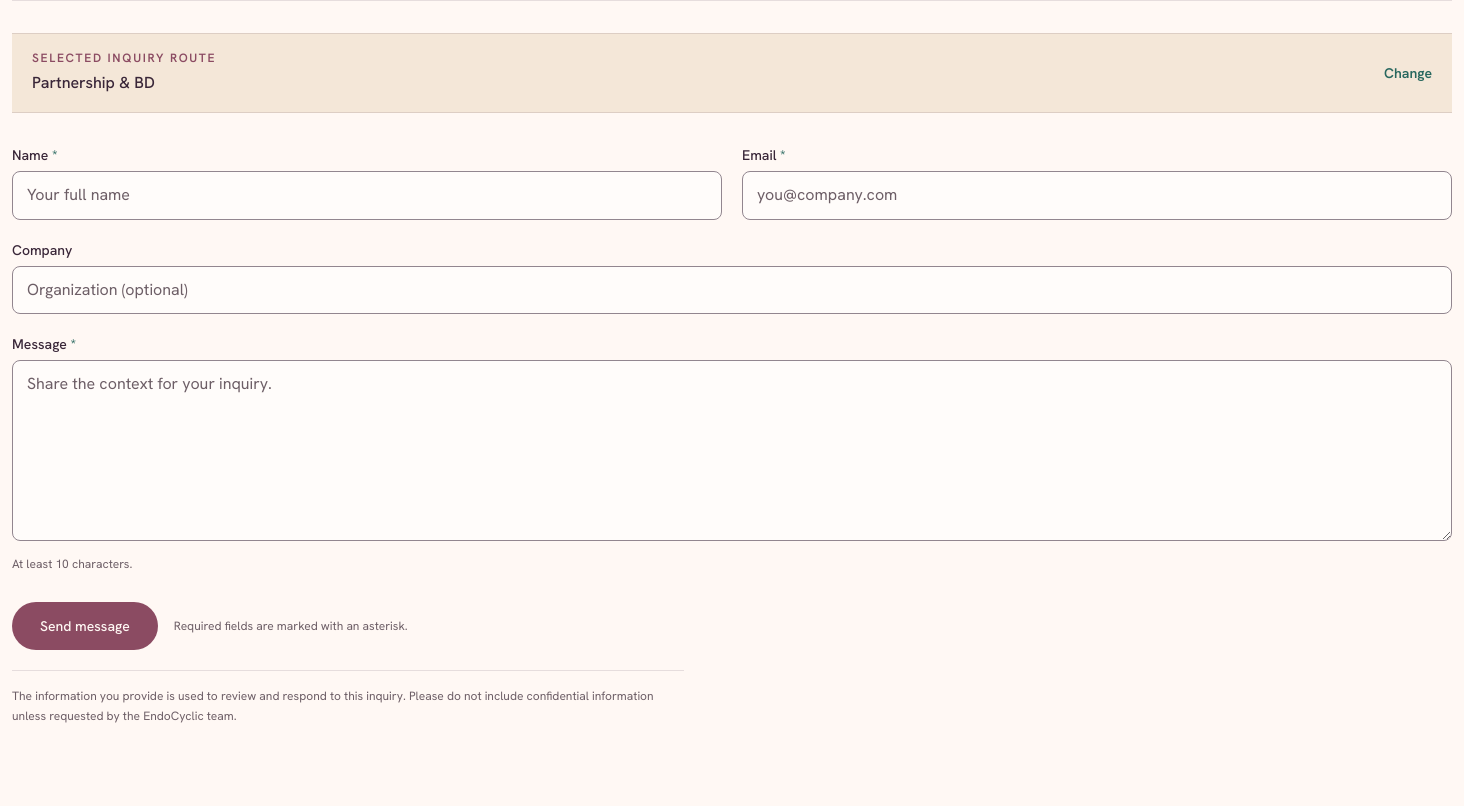
Scenario: ContactForm subject chooser › preserves editable fields while Retry-After gates only submission
Type "Ada Lovelace" into the field labelled "Name". click: (367, 196)
box: x1=12 y1=171 x2=722 y2=220
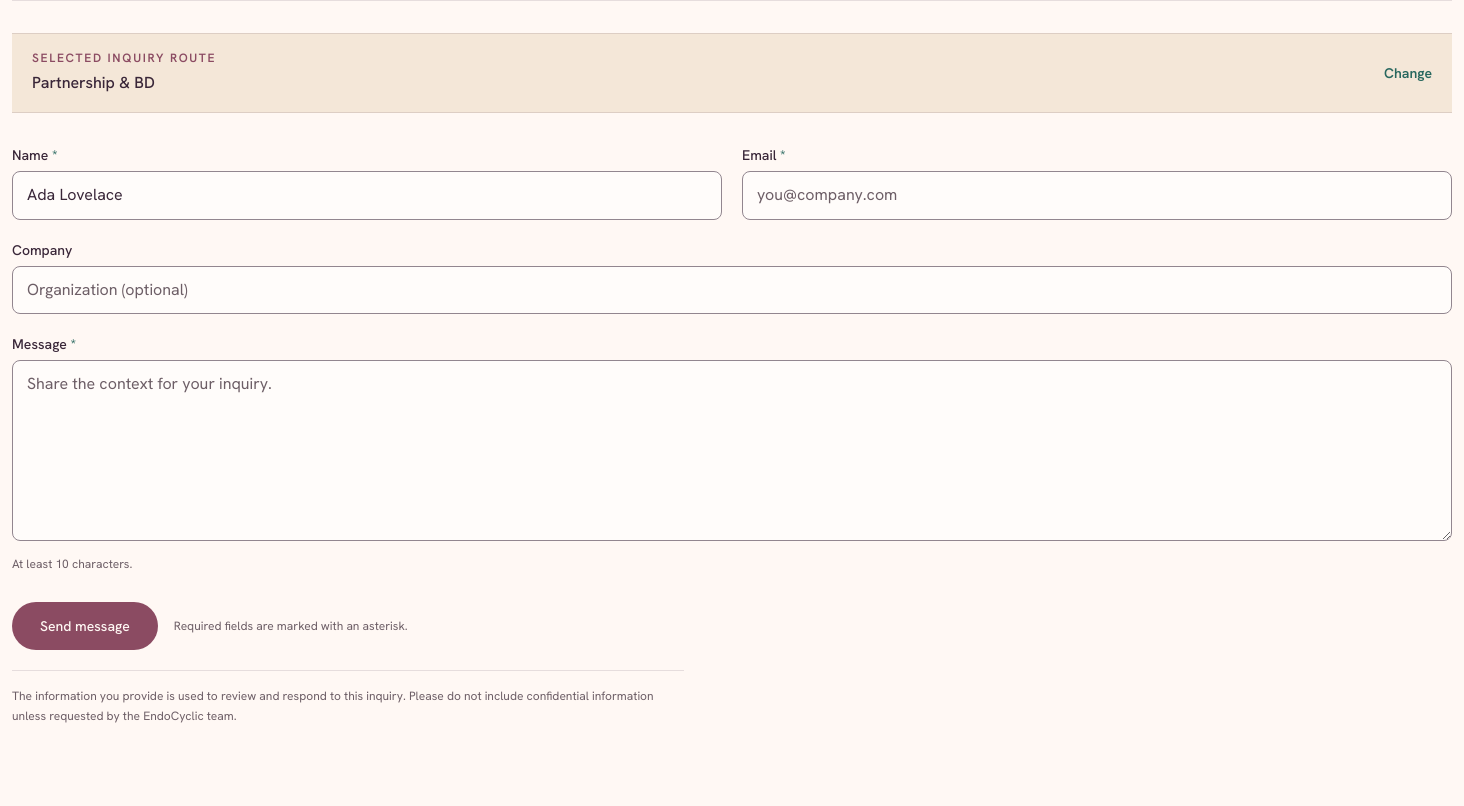
Type "ada@example.com" into the field labelled "Email". click: (1097, 196)
box: x1=742 y1=171 x2=1452 y2=220
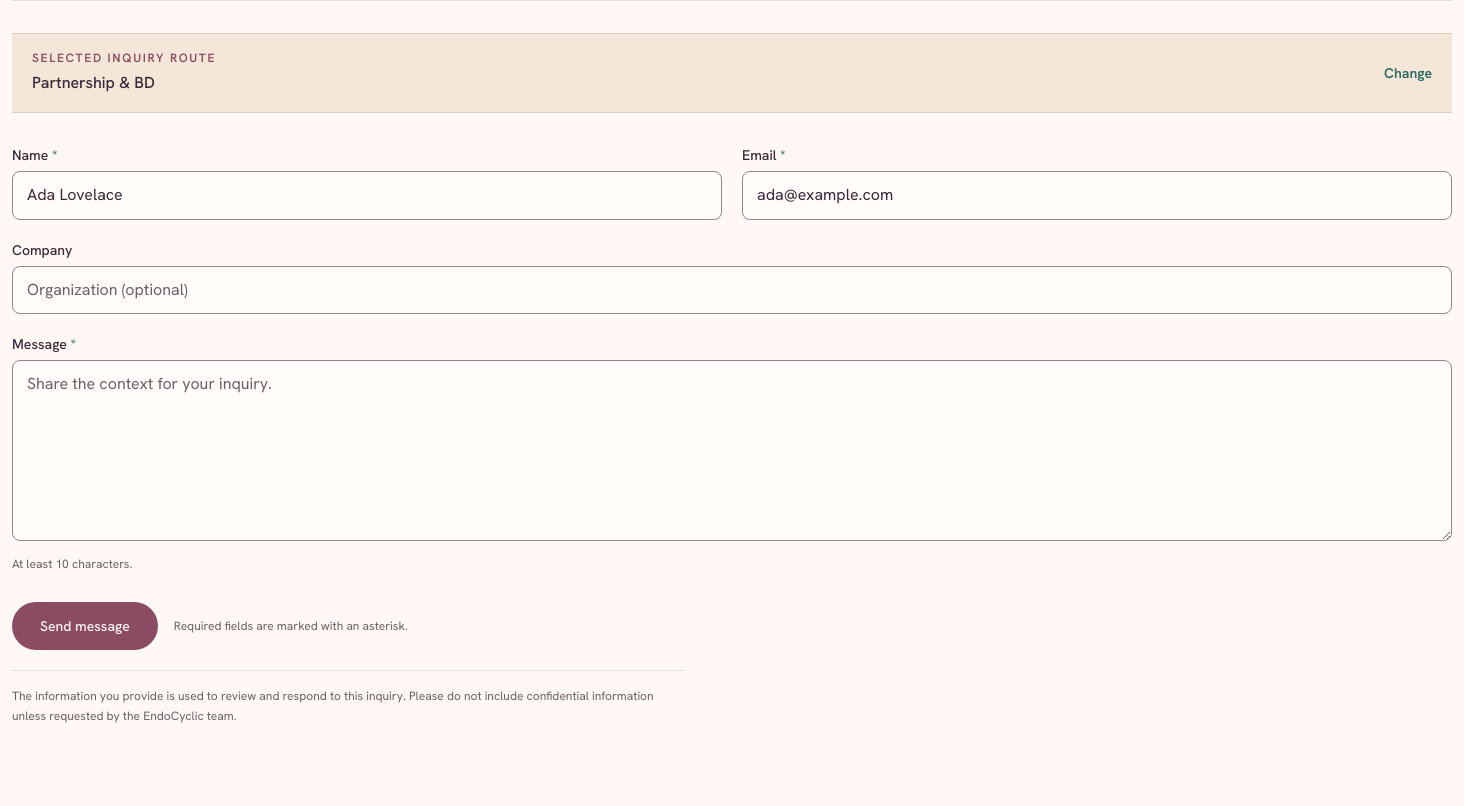
Type "A detailed partnership inquiry." into the text box labelled "Message". click: (732, 450)
box: x1=12 y1=360 x2=1452 y2=540
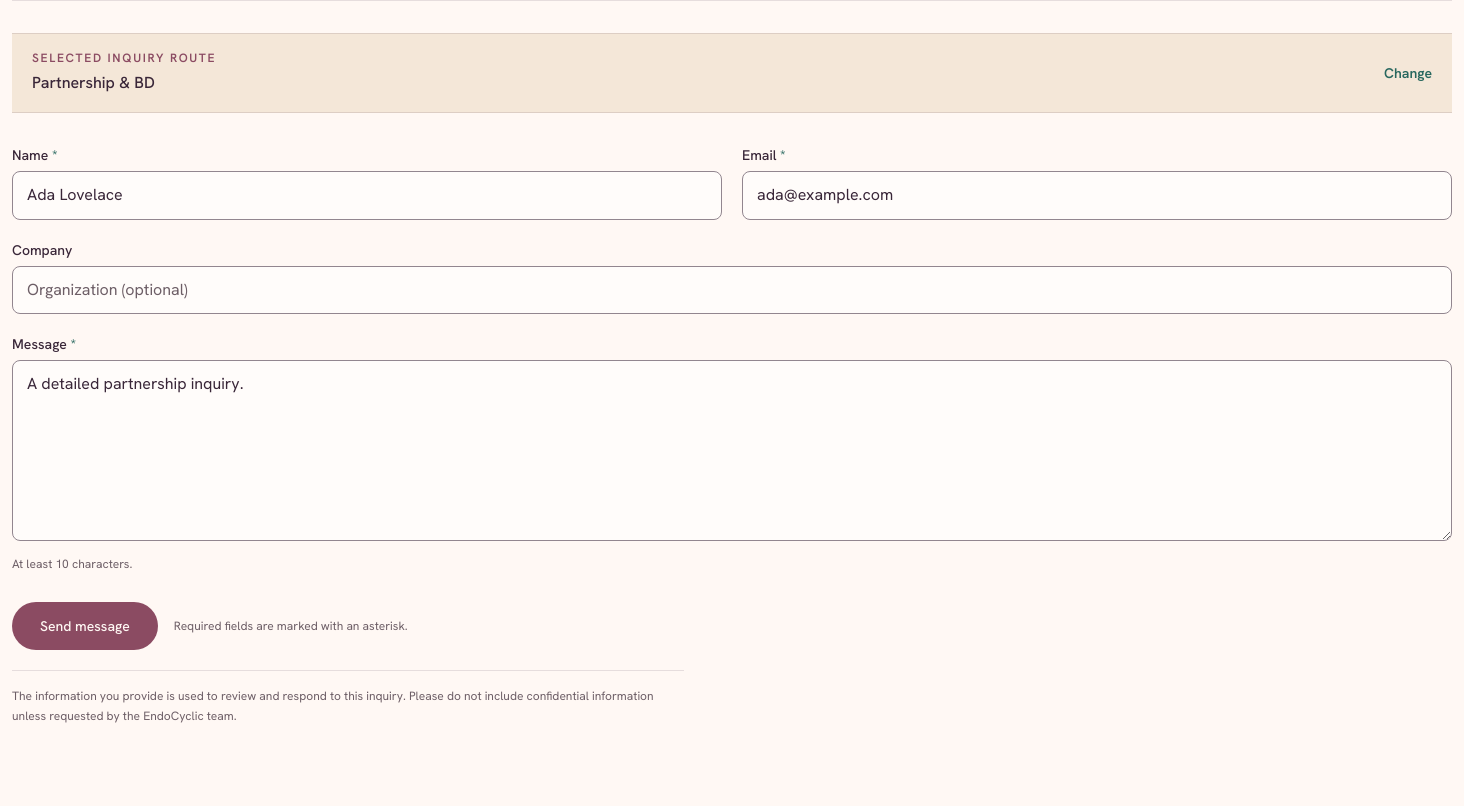
Click the button "Send message". click: (85, 626)
box: x1=12 y1=602 x2=158 y2=650
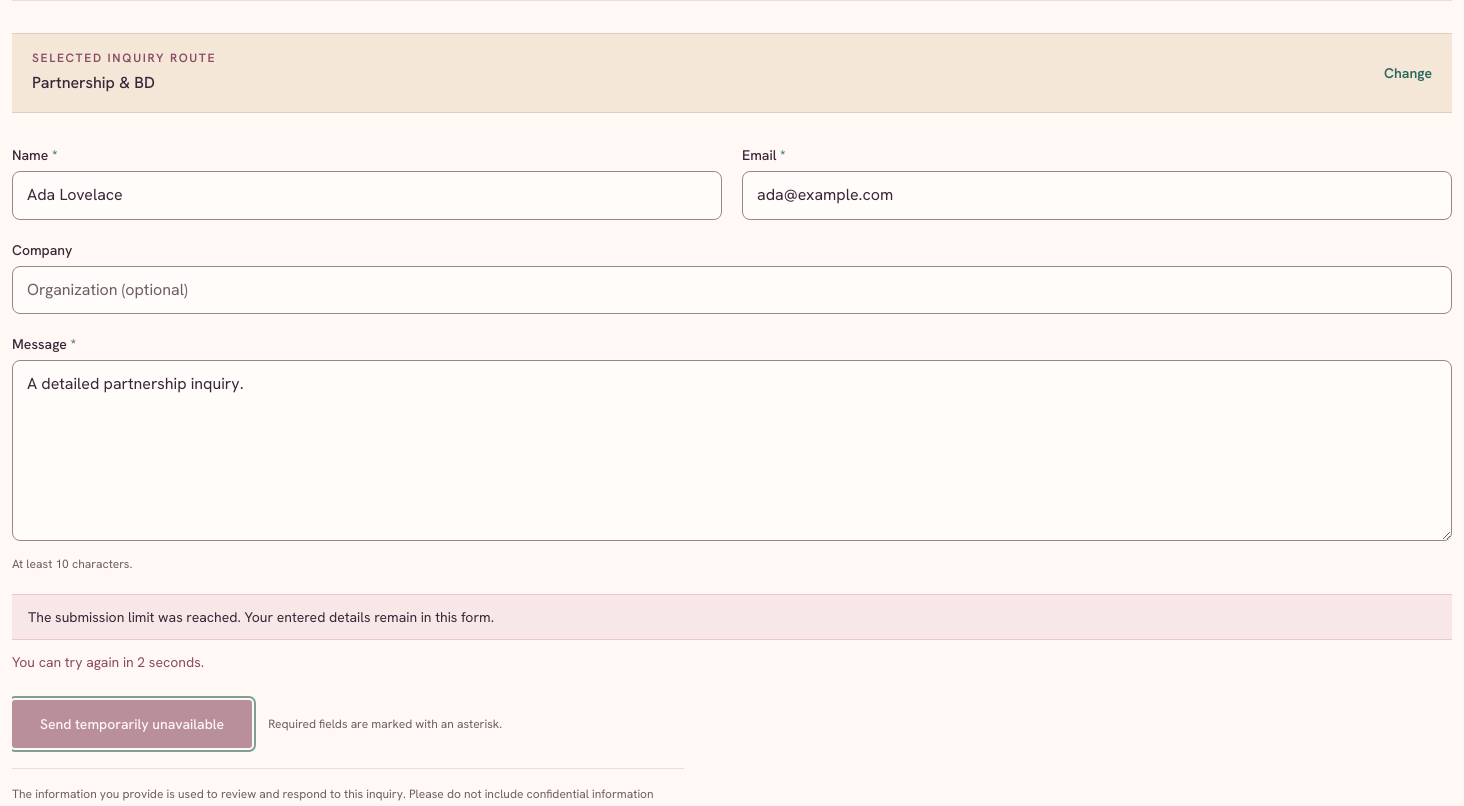
Result: the text "You can try again in 2 seconds." is shown at x1=12 y1=653 x2=204 y2=671
Result: the text "The submission limit was reached. Your entered details remain in this form." is shown at x1=12 y1=594 x2=1452 y2=640
Result: the button "Send temporarily unavailable" is enabled at x1=12 y1=700 x2=252 y2=748
Replace the text in the field labelled "Name" with "Ada Byron". click: (367, 196)
box: x1=12 y1=171 x2=722 y2=220
Wait 2000 ms
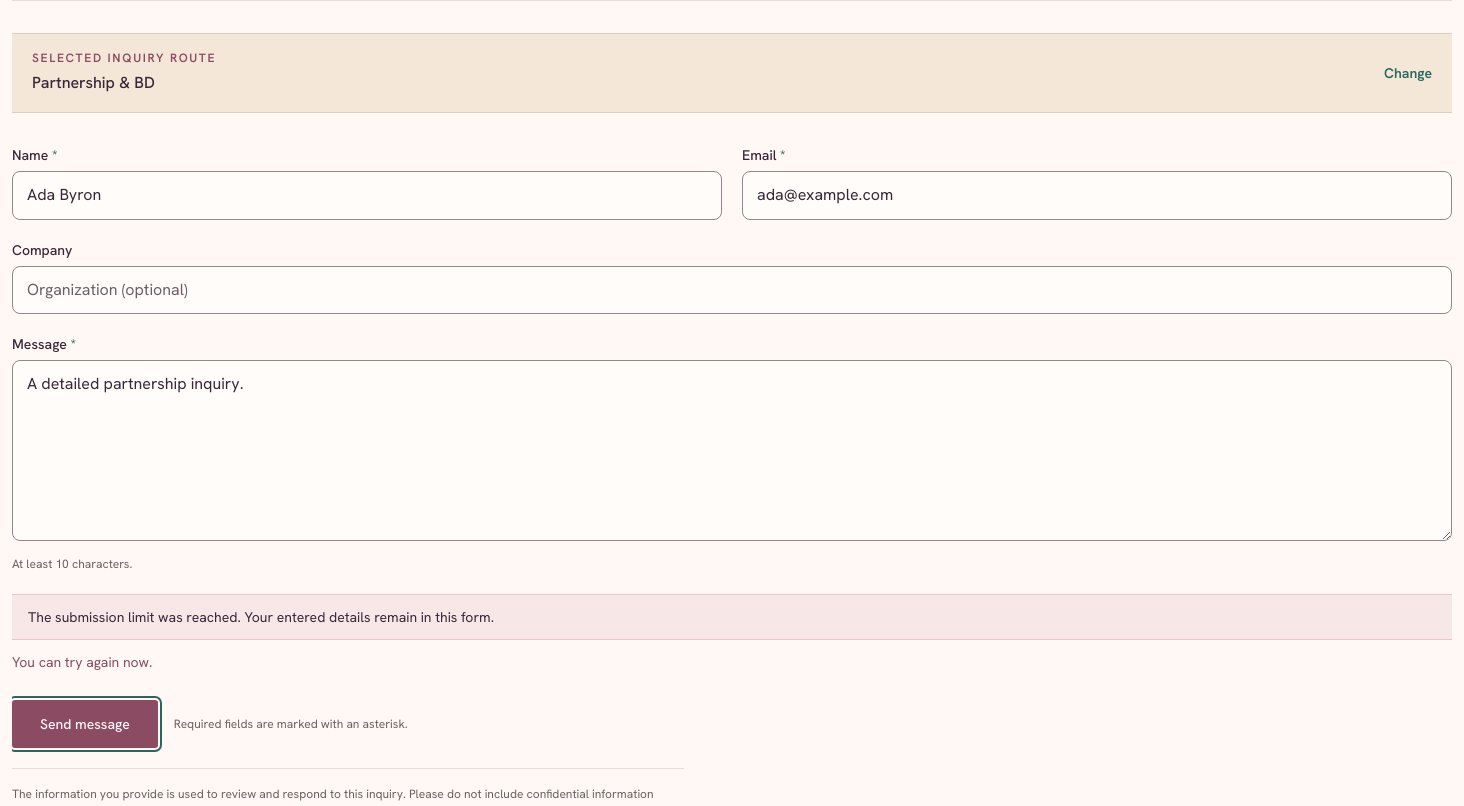
Expected: the text "The submission limit was reached. Your entered details remain in this form." does not show "try again later", x1=12 y1=594 x2=1452 y2=640
Result: the text "The submission limit was reached. Your entered details remain in this form." is shown at x1=12 y1=594 x2=1452 y2=640
Result: the text "You can try again now." is shown at x1=12 y1=653 x2=152 y2=671
